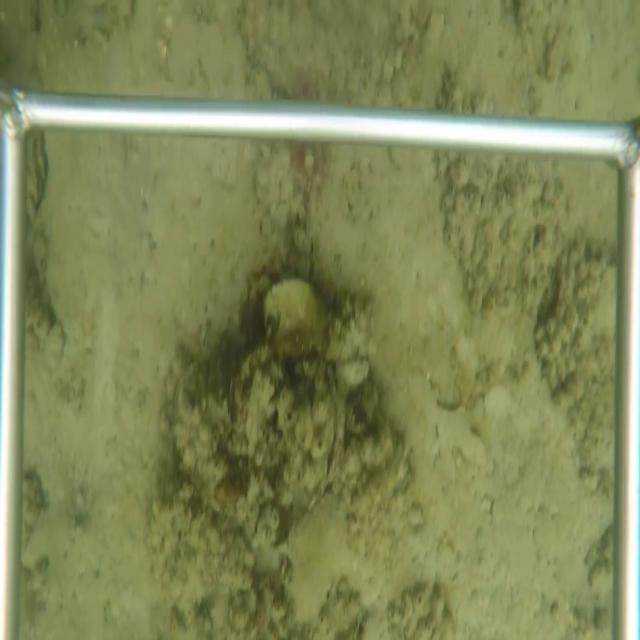Oyster-Indeterminate: (166, 12, 275, 96), (261, 275, 332, 353)
